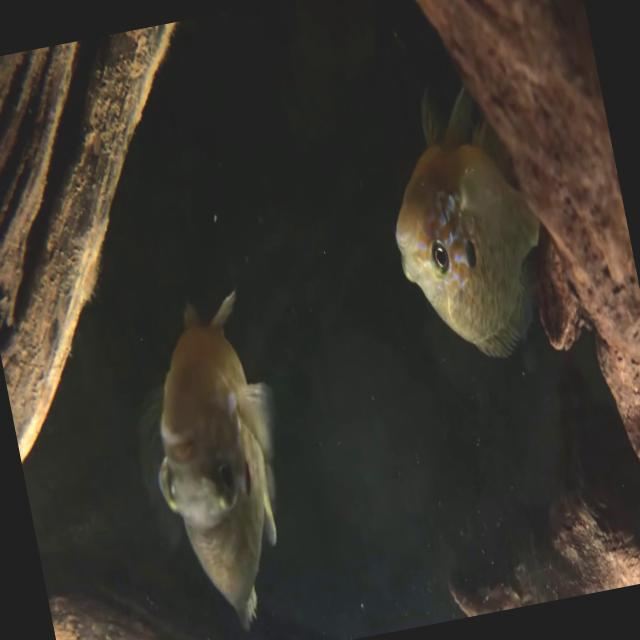Gunes Levregi: (124, 282, 317, 640), (368, 71, 567, 378)
